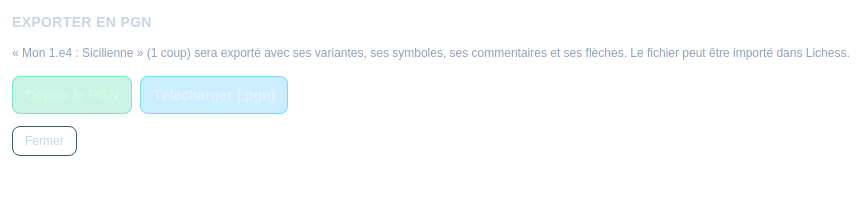
Test: PgnExportPanel › copie le PGN dans le presse-papiers
The width and height of the screenshot is (866, 201).
Step 1. Click the button "Copier le PGN" → (72, 94), box [12, 76, 132, 114]
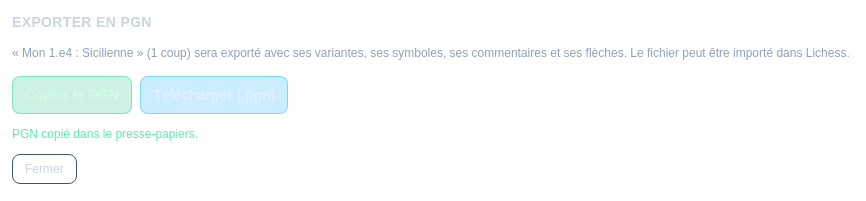
Expected: the text "PGN copié dans le presse-papiers." is shown, [12, 126, 198, 140]
